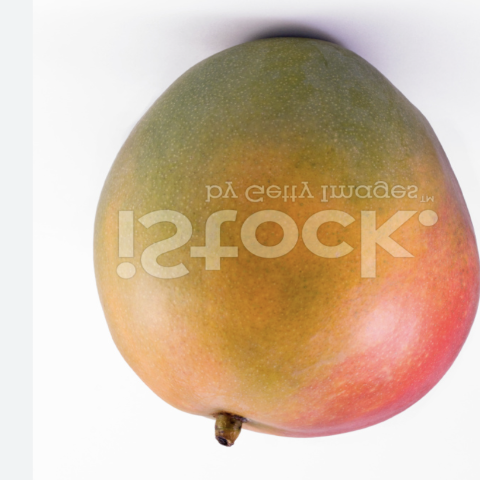mango: (66, 3, 479, 465)
